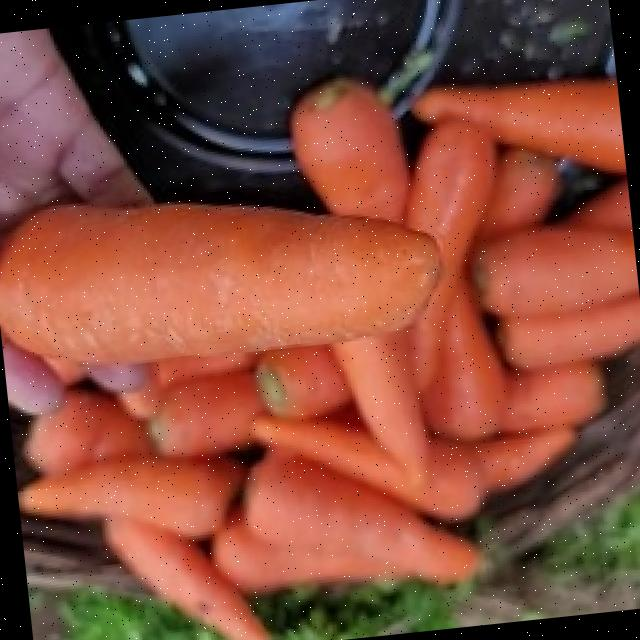carrot: (0, 84, 640, 640), (0, 208, 441, 372)
